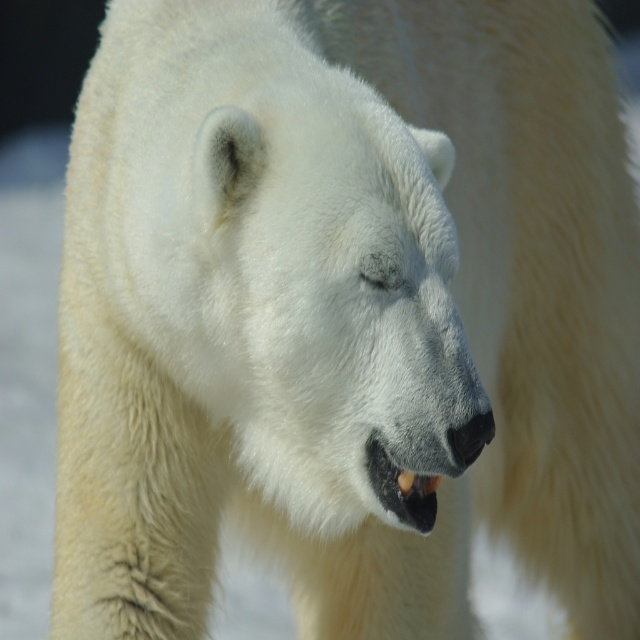Polar bear: (47, 0, 640, 639)
